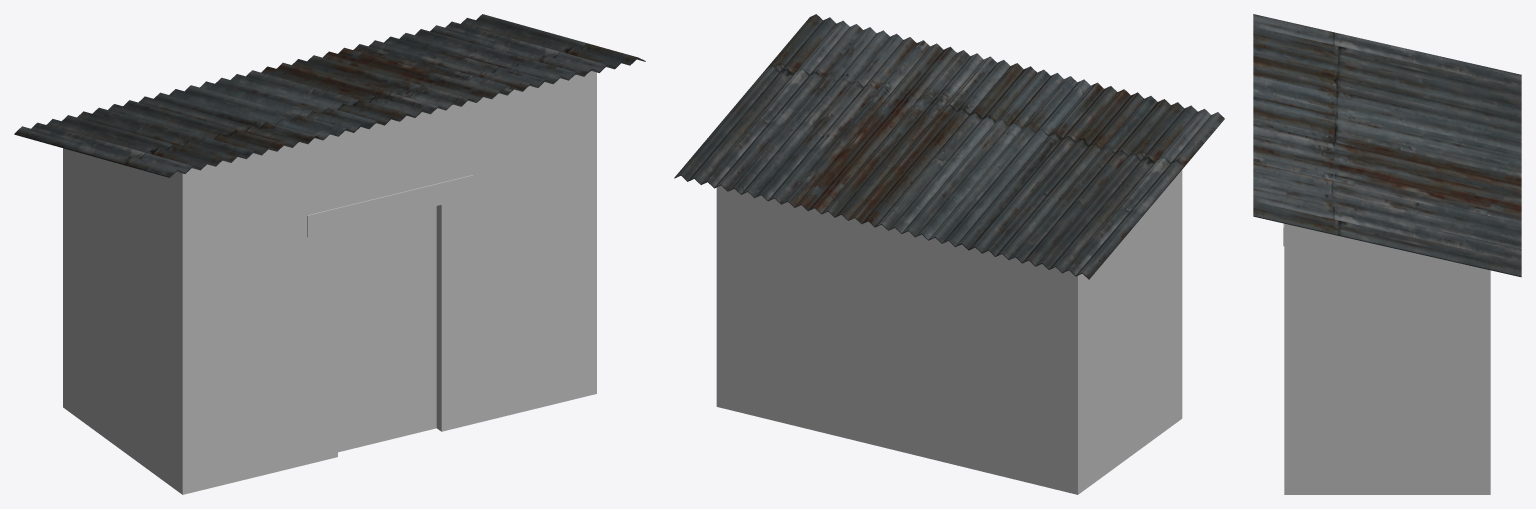
File: shed_ax_4.fbx
3 renders of one model, left to right at view 1: azimuth 30°, elevation 25°; view 2: azimuth 150°, elevation 25°; view 3: azimuth 270°, elevation 25°, orthographic. The views are drawn at different scales.
Visible parts, largest first — view 1: shed_ax_4, door_hr_10; view 2: shed_ax_4; view 3: shed_ax_4.
Part boxes in pixels (x1,y1,x2,y2): shed_ax_4: (14, 14, 645, 494); door_hr_10: (338, 206, 436, 452); shed_ax_4: (674, 14, 1224, 494); shed_ax_4: (1253, 14, 1521, 494).
Bounding box in the file's own units: 4.59 × 2.6 × 3.17.
